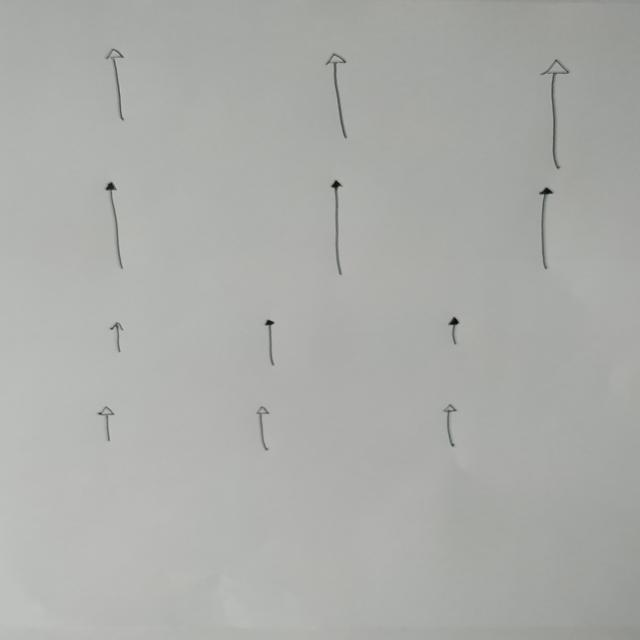arrow_line_up: (540, 57, 571, 170), (323, 51, 354, 141), (102, 180, 128, 271), (102, 46, 132, 122), (327, 178, 349, 278), (532, 186, 556, 272), (261, 318, 281, 368), (253, 405, 273, 454), (441, 402, 461, 449), (95, 404, 118, 444), (106, 319, 128, 353), (444, 314, 465, 346)
